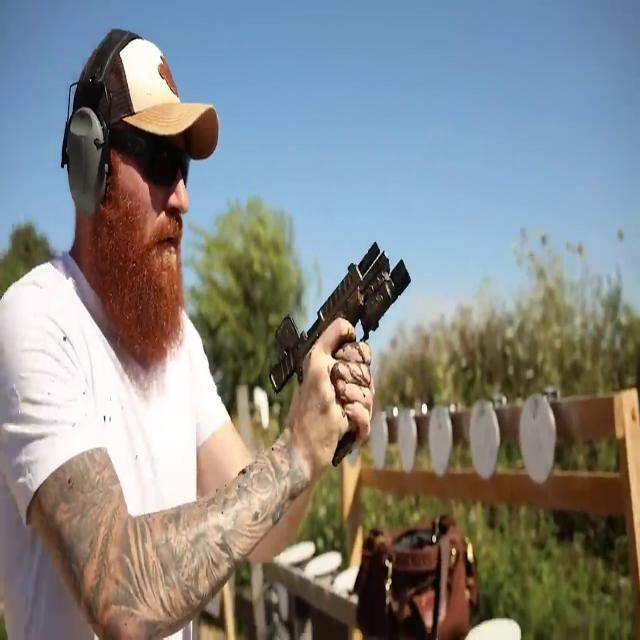Handgun: (274, 218, 415, 478)
